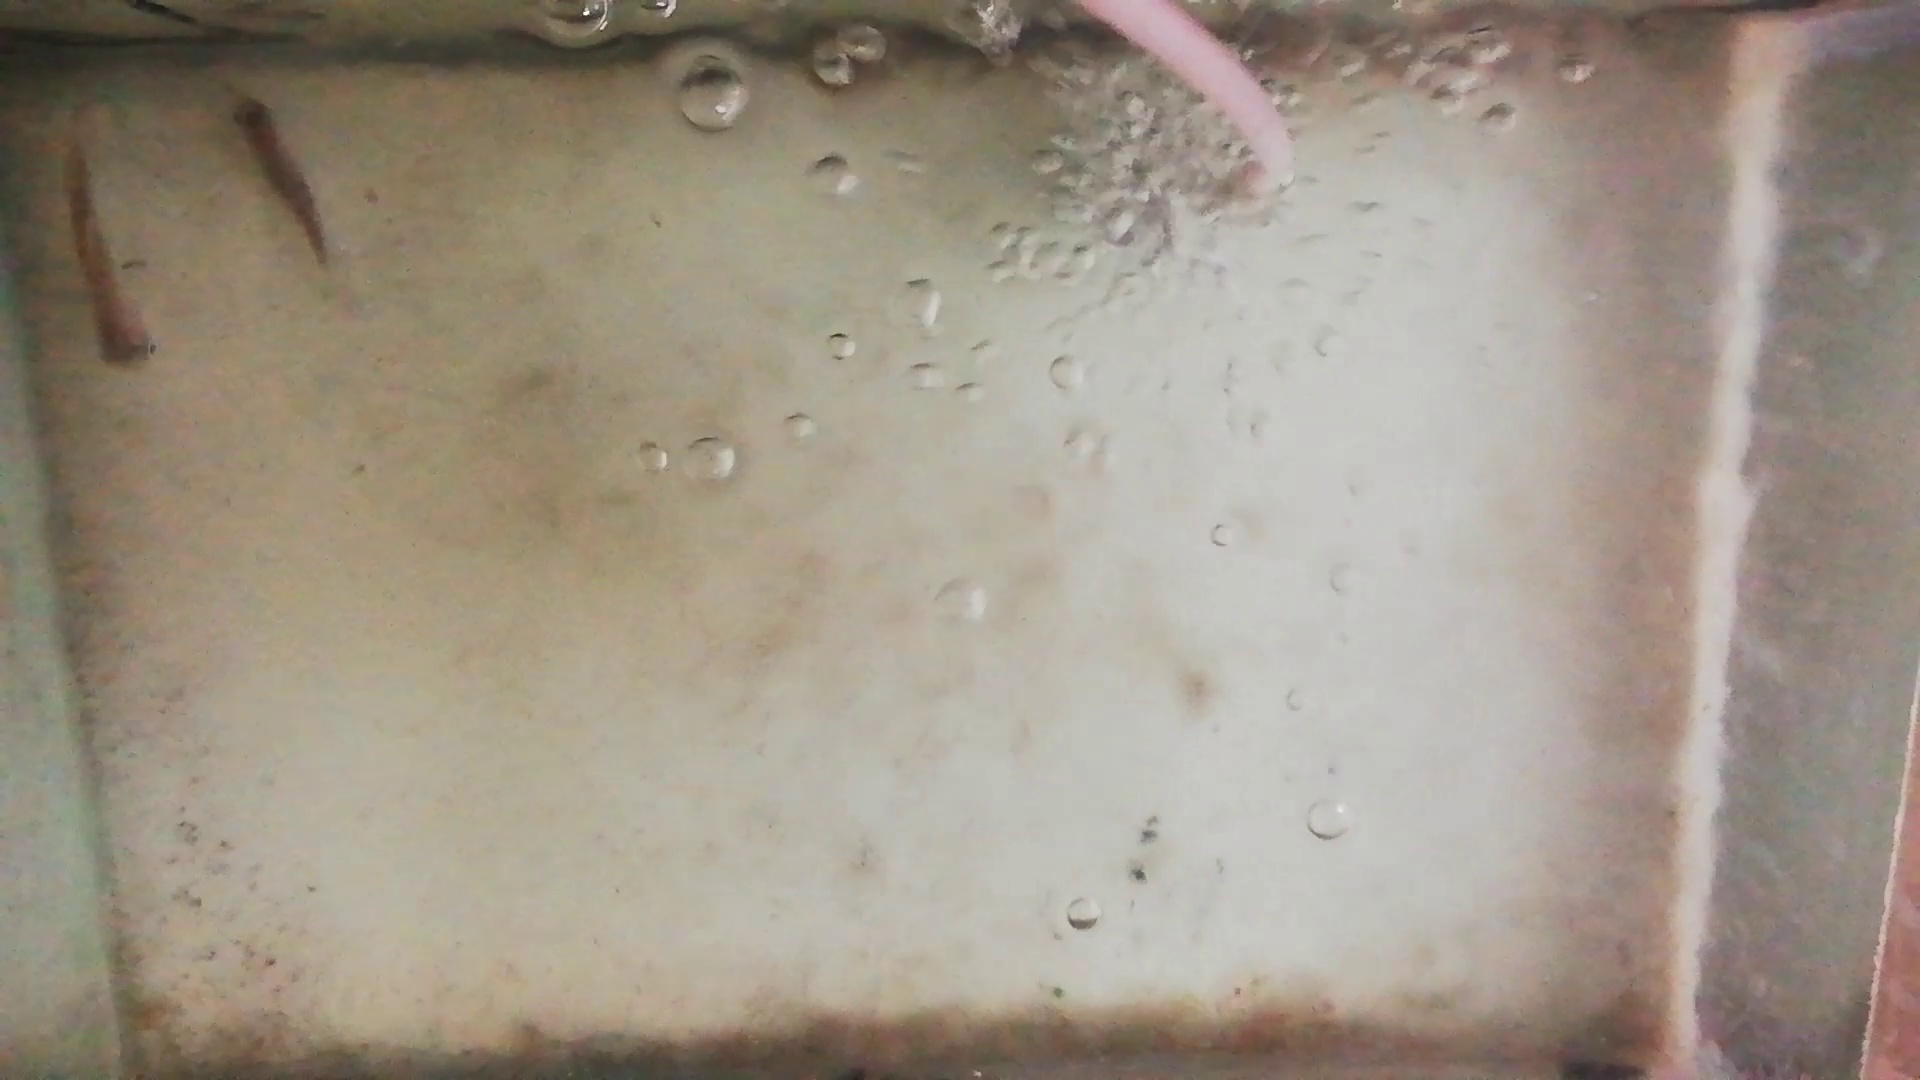fish: (69, 127, 152, 375), (228, 88, 332, 262)
